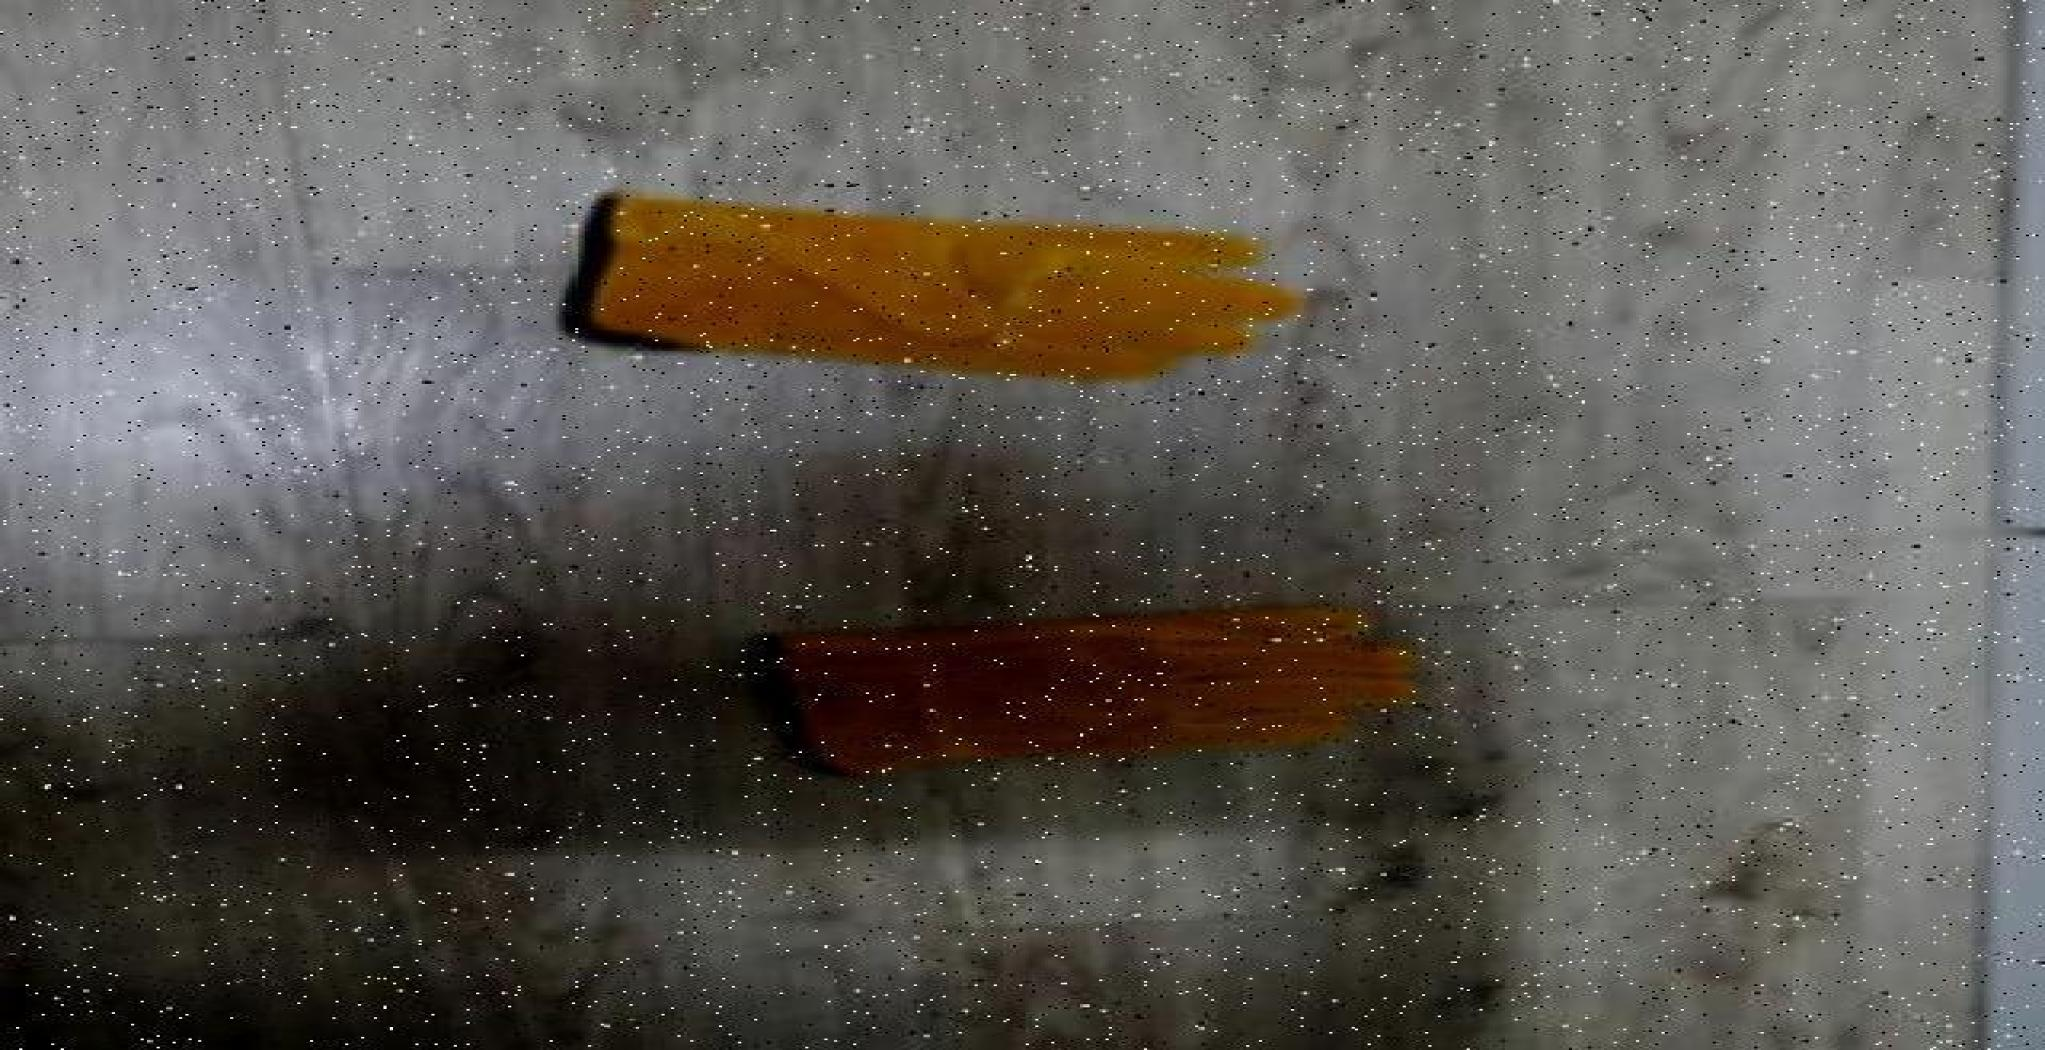gloved: (556, 187, 1310, 384)
